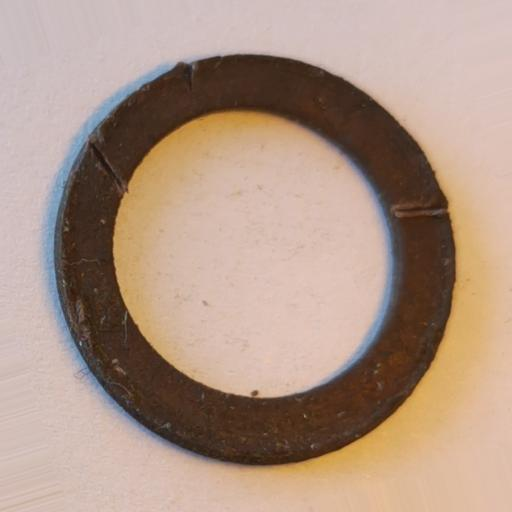defect: (55, 236, 92, 354), (87, 140, 126, 194), (391, 201, 450, 218), (181, 61, 198, 90)
